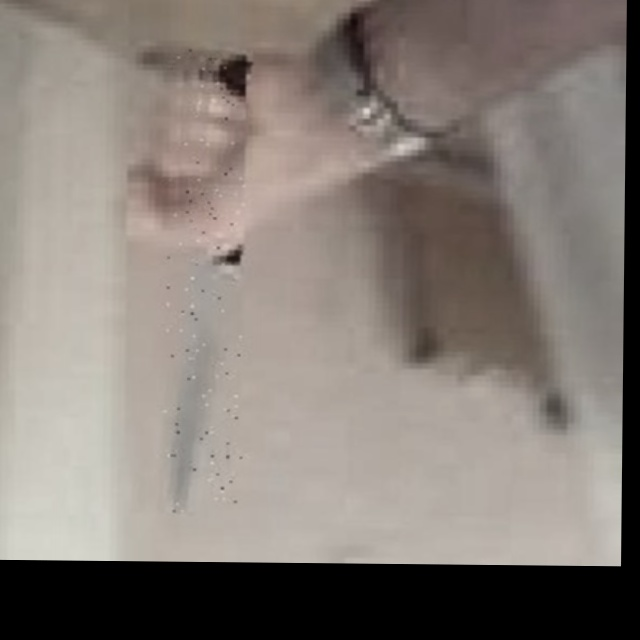Sharp-Object: (163, 49, 246, 514)
